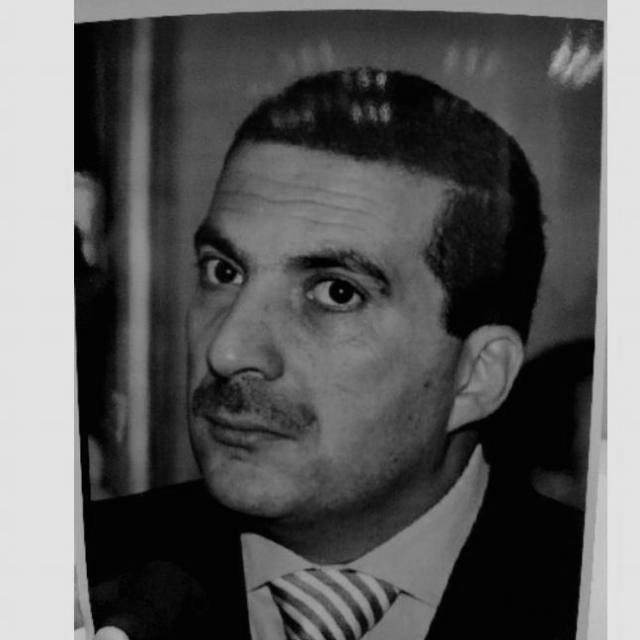fake: (73, 8, 606, 640)
